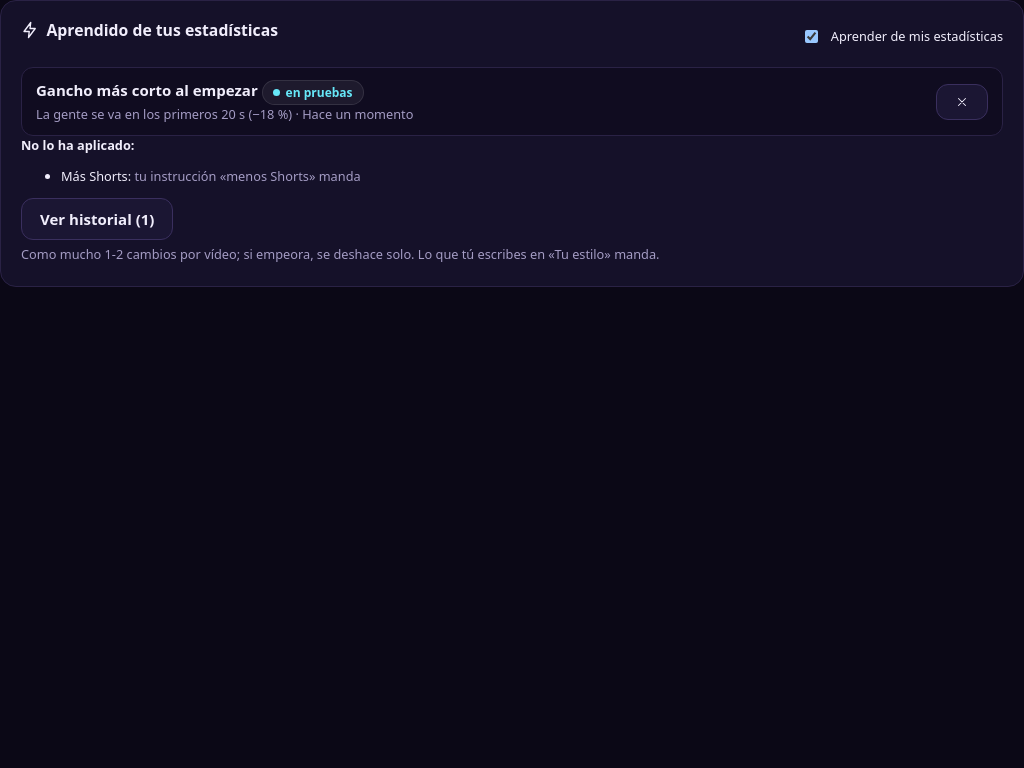
aprendido de tus estadísticas › enseña lo aprendido «en pruebas», lo descartado, los límites, y se puede quitar
Expected: the text "Gancho más corto al empezar" is shown, [36,80,258,100]
Expected: the text "en pruebas" is shown, [262,80,364,105]
Click the button named "Quitar: Gancho más corto al empezar" at coordinates (962, 102), box [936,84,988,120]
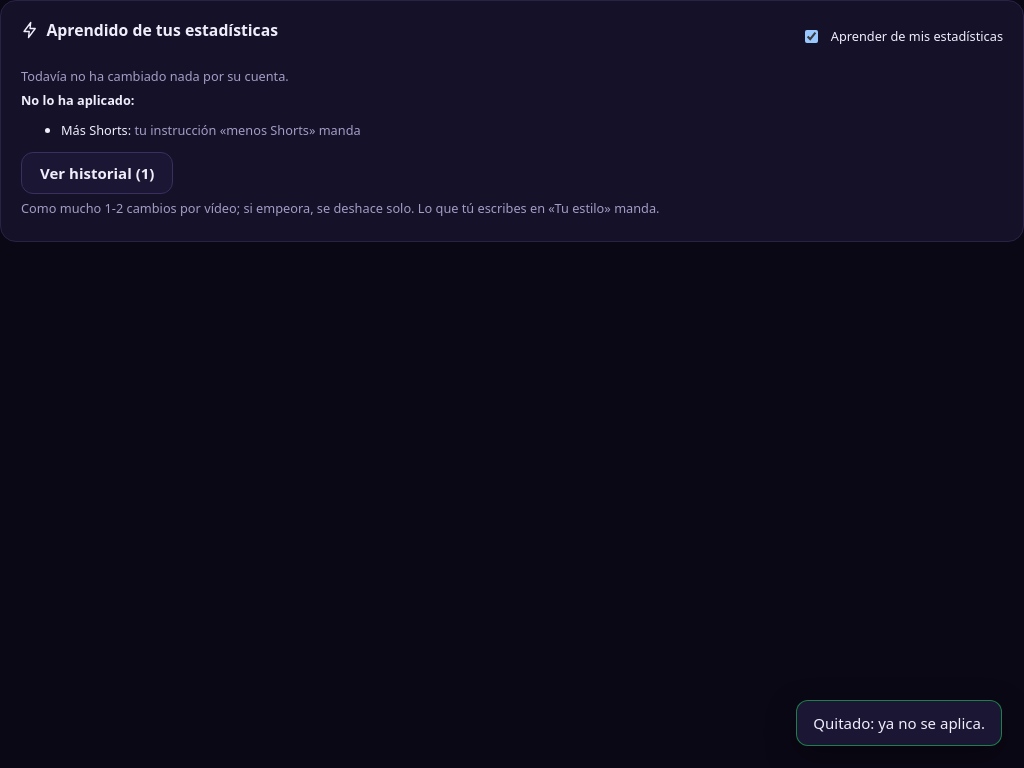
Now the text "Todavía no ha cambiado nada por su cuenta." is shown, box [21,67,289,85]
